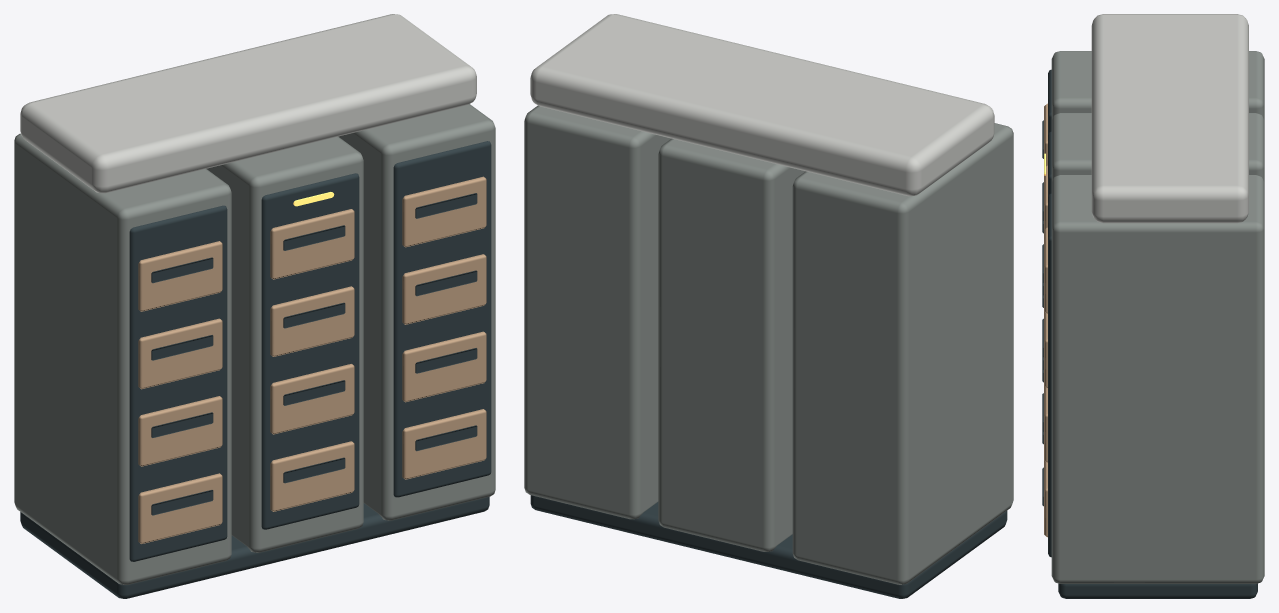
File: kit_hw_cluster_v1.glb
The picture shows the model from 3 angles, left to right: view 1: azimuth 30°, elevation 25°; view 2: azimuth 150°, elevation 25°; view 3: azimuth 270°, elevation 25°; orthographic projection. The views are drawn at different scales.
Parts seen in each view (by area): view 1: body, provider; view 2: body, provider; view 3: body, provider.
Part boxes in pixels (x1,y1,x2,y2): body: (14, 104, 495, 598); provider: (20, 14, 476, 193); body: (524, 105, 1013, 598); provider: (530, 14, 994, 196); body: (1042, 51, 1264, 598); provider: (1091, 14, 1248, 223).
Size of the model in its own units: 1.92 by 2.06 by 1.
